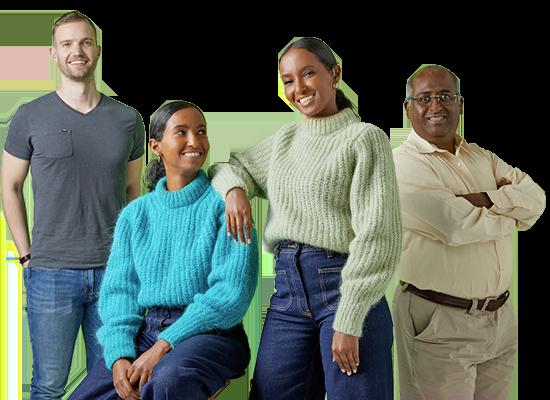long sleeve shirt: (392, 129, 549, 299)
short sleeve shirt: (2, 89, 146, 270)
sweater: (207, 107, 404, 338), (93, 168, 261, 371)
trousers: (248, 244, 396, 400), (62, 304, 252, 400), (392, 281, 521, 400), (22, 263, 114, 400)
